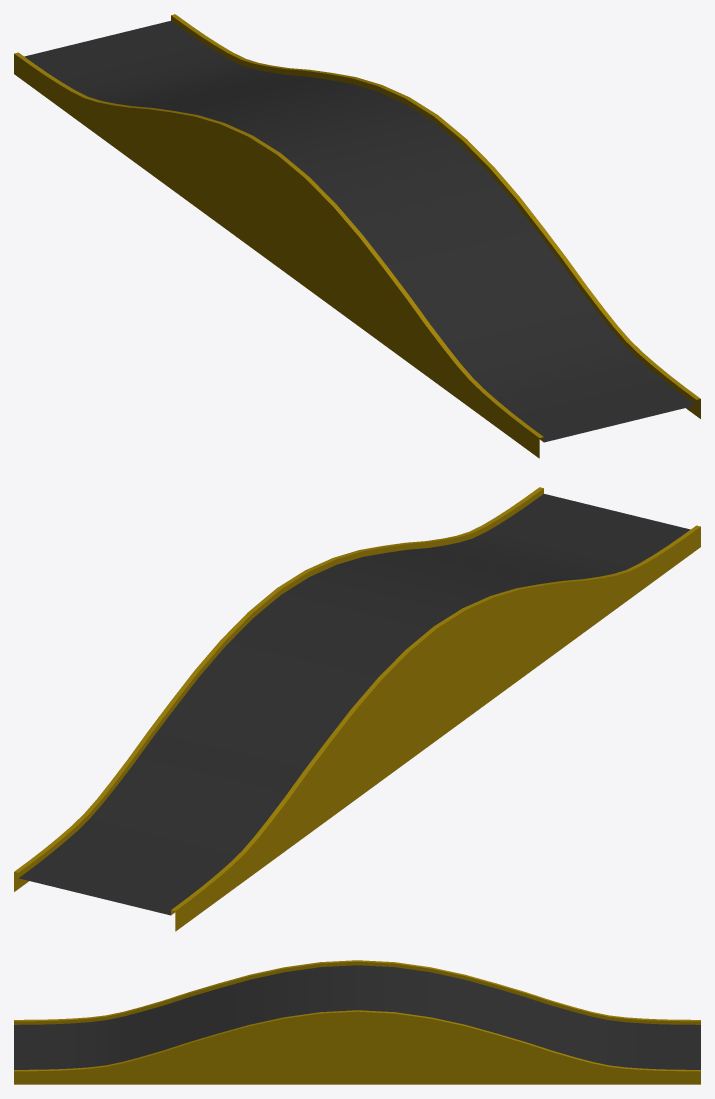
File: Trampoline.fbx
3 renders of one model, top to bottom at view 1: azimuth 30°, elevation 25°; view 2: azimuth 150°, elevation 25°; view 3: azimuth 270°, elevation 25°, orthographic. The views are drawn at different scales.
Parts seen in each view (by area): view 1: Bridge.004; view 2: Bridge.004; view 3: Bridge.004.
Part boxes in pixels (x1,y1,x2,y2): Bridge.004: (14, 14, 700, 458); Bridge.004: (14, 487, 700, 931); Bridge.004: (14, 960, 700, 1084).
Size of the model in its own units: 970 by 642 by 5471.
